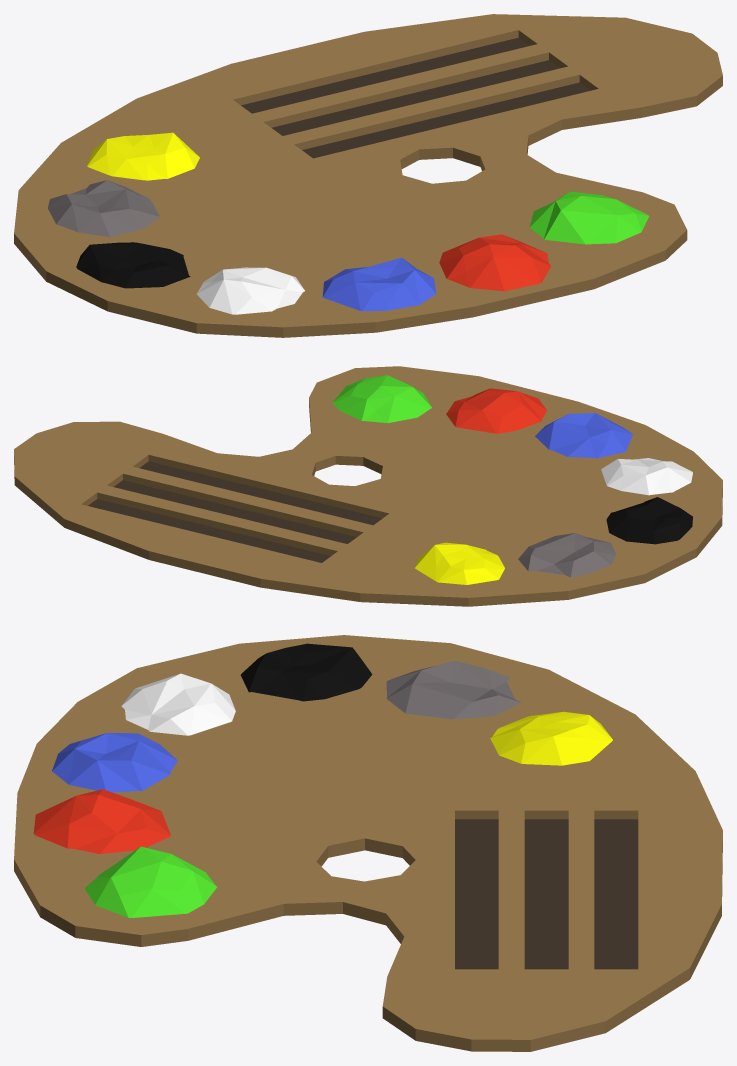
Rendered from LowPoly_PaintPalette.fbx.
The picture shows the model from 3 angles, top to bottom: view 1: azimuth 30°, elevation 25°; view 2: azimuth 150°, elevation 25°; view 3: azimuth 270°, elevation 25°; orthographic projection. The views are drawn at different scales.
Parts seen in each view (by area): view 1: PaintPallet, Blob.002, Blob, Blob.011, Blob.003, Blob.005, Blob.007, Blob.004; view 2: PaintPallet, Blob, Blob.002, Blob.003, Blob.011, Blob.005, Blob.007, Blob.004; view 3: PaintPallet, Blob, Blob.002, Blob.011, Blob.005, Blob.003, Blob.004, Blob.007.
Part boxes in pixels (x1,y1,x2,y2): PaintPallet: (14,14,722,337); Blob.002: (439,234,551,291); Blob: (529,191,649,244); Blob.011: (48,180,160,237); Blob.003: (322,257,436,311); Blob.005: (76,242,190,288); Blob.007: (87,132,199,180); Blob.004: (196,267,304,314); PaintPallet: (14,366,722,606); Blob: (332,375,431,423); Blob.002: (446,388,546,433); Blob.003: (535,413,632,458); Blob.011: (518,533,615,577); Blob.005: (606,497,692,544); Blob.007: (415,542,504,584); Blob.004: (601,458,692,495); PaintPallet: (14,635,722,1051); Blob: (84,846,216,917); Blob.002: (33,789,170,854); Blob.011: (386,660,521,719); Blob.005: (240,643,372,701); Blob.003: (52,732,177,792); Blob.004: (121,673,235,735); Blob.007: (490,711,612,765).
Bounding box in the file's own units: 688 × 30.81 × 509.
